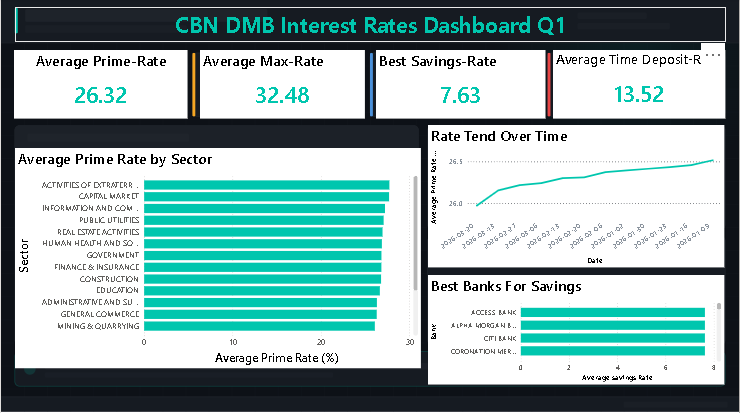

Layout of this report page (visuals, bound fields, positions):
{"tool":"powerbi","page":{"name":"Page 1","canvas":[1280,720],"ordinal":0},"visuals":[{"type":"clusteredBarChart","title":"Average Prime Rate by Sector","fields":{"Y":["Avg(lending_rates.prime_rate)"],"Category":["lending_rates.sector"]},"box":[23.5,260.8,703.9,382.4],"z":0},{"type":"clusteredBarChart","title":"Best Banks For Savings","fields":{"Category":["lending_rates.bank_name"],"Y":["Avg(deposit_rates.savings_deposit_rate)"]},"box":[741.2,480.4,513.7,190.2],"z":1000},{"type":"lineChart","title":"Rate Tend Over Time","fields":{"Category":["lending_rates.reporting_date"],"Y":["Avg(lending_rates.prime_rate)"]},"box":[741.2,219.6,513.7,247.1],"z":2000},{"type":"card","title":"Average Prime-Rate","fields":{"Values":["Avg(lending_rates.prime_rate)"]},"box":[22.9,90,301.4,118.6],"z":3000},{"type":"card","title":"Average Max-Rate ","fields":{"Values":["Avg(lending_rates.max_rate)"]},"box":[344.3,90,285.7,118.6],"z":4000},{"type":"card","title":"Best Savings-Rate","fields":{"Values":["Avg(deposit_rates.savings_deposit_rate)"]},"box":[650,90,294.3,118.6],"z":5000},{"type":"card","title":"Average Time Deposit-Rate","fields":{"Values":["Avg(deposit_rates.time_deposit_rate)"]},"box":[957.1,90,298.6,118.6],"z":6000},{"type":"textbox","box":[23.5,15.7,1233.3,60.8],"z":7000}]}

Visuals, with their boxes in screenshot pixels (x1, y1, x2, y2), scaled from the page's 1280x720 canvas onto the 740x413 screenshot:
"Average Prime Rate by Sector" clusteredBarChart: select_region(14, 150, 421, 369)
"Best Banks For Savings" clusteredBarChart: select_region(429, 276, 725, 385)
"Rate Tend Over Time" lineChart: select_region(429, 126, 725, 268)
"Average Prime-Rate" card: select_region(13, 52, 187, 120)
"Average Max-Rate " card: select_region(199, 52, 364, 120)
"Best Savings-Rate" card: select_region(376, 52, 546, 120)
"Average Time Deposit-Rate" card: select_region(553, 52, 726, 120)
textbox: select_region(14, 9, 727, 44)
